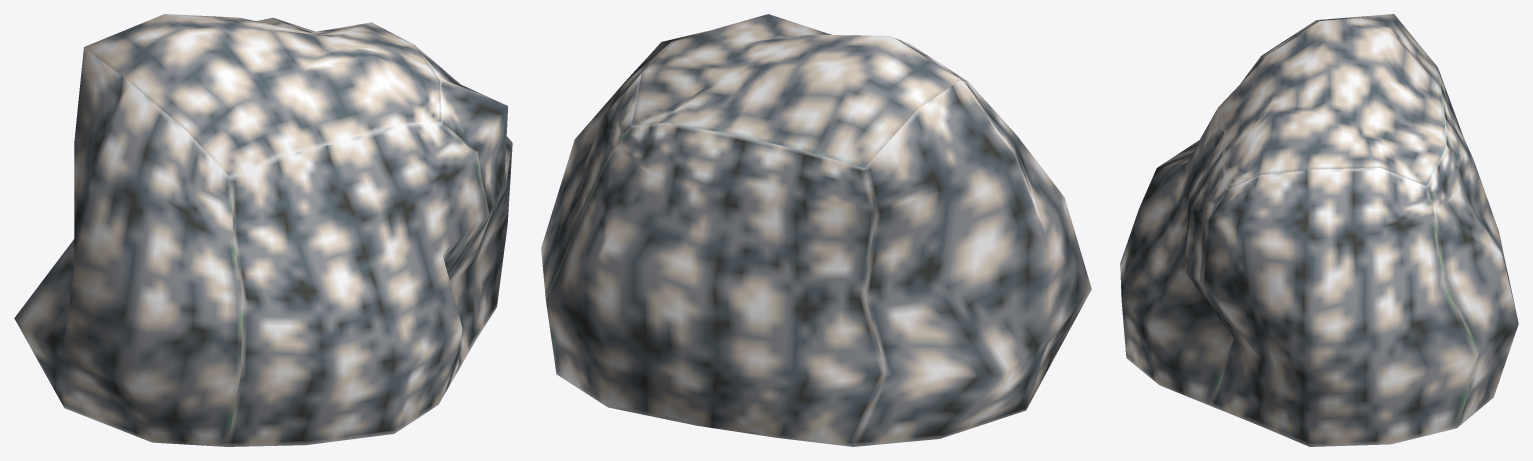
The model's file is medium_Rock.fbx.
The picture shows the model from 3 angles, left to right: view 1: azimuth 30°, elevation 25°; view 2: azimuth 150°, elevation 25°; view 3: azimuth 270°, elevation 25°; orthographic projection. The views are drawn at different scales.
Visible parts, largest first — view 1: medium_Rock; view 2: medium_Rock; view 3: medium_Rock.
Part boxes in pixels (x1,y1,x2,y2): medium_Rock: (14, 14, 512, 446); medium_Rock: (541, 14, 1091, 446); medium_Rock: (1120, 14, 1518, 446).
Bounding box in the file's own units: 1.65 × 1.17 × 1.41.
